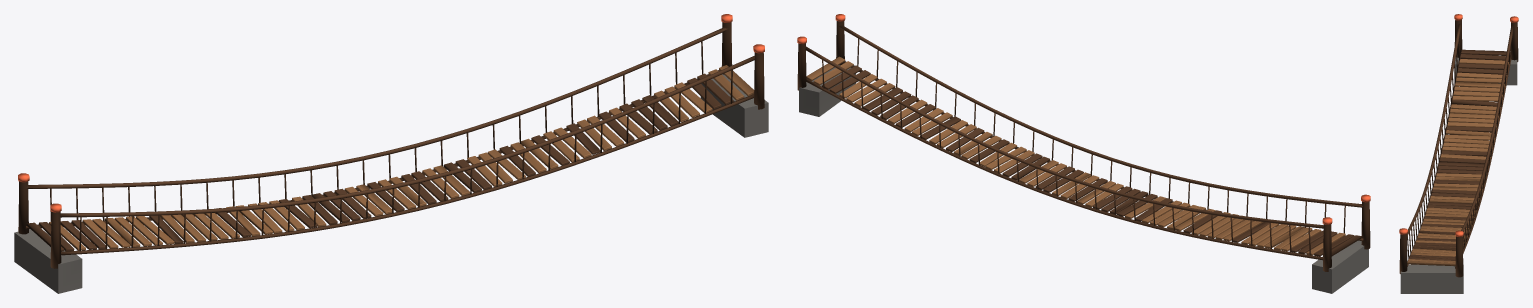
File: about_playground.glb
3 views of the same model, side by side, from view 1: azimuth 30°, elevation 25°; view 2: azimuth 150°, elevation 25°; view 3: azimuth 270°, elevation 25° (orthographic). The views are drawn at different scales.
Parts seen in each view (by area): view 1: bridge; view 2: bridge; view 3: bridge.
Boxes of the visible parts, left/top/right/bottom form: bridge: left=14, top=14, right=768, bottom=293; bridge: left=797, top=14, right=1370, bottom=293; bridge: left=1399, top=14, right=1518, bottom=293.
Bounding box in the file's own units: 17.05 × 2.65 × 3.61.
